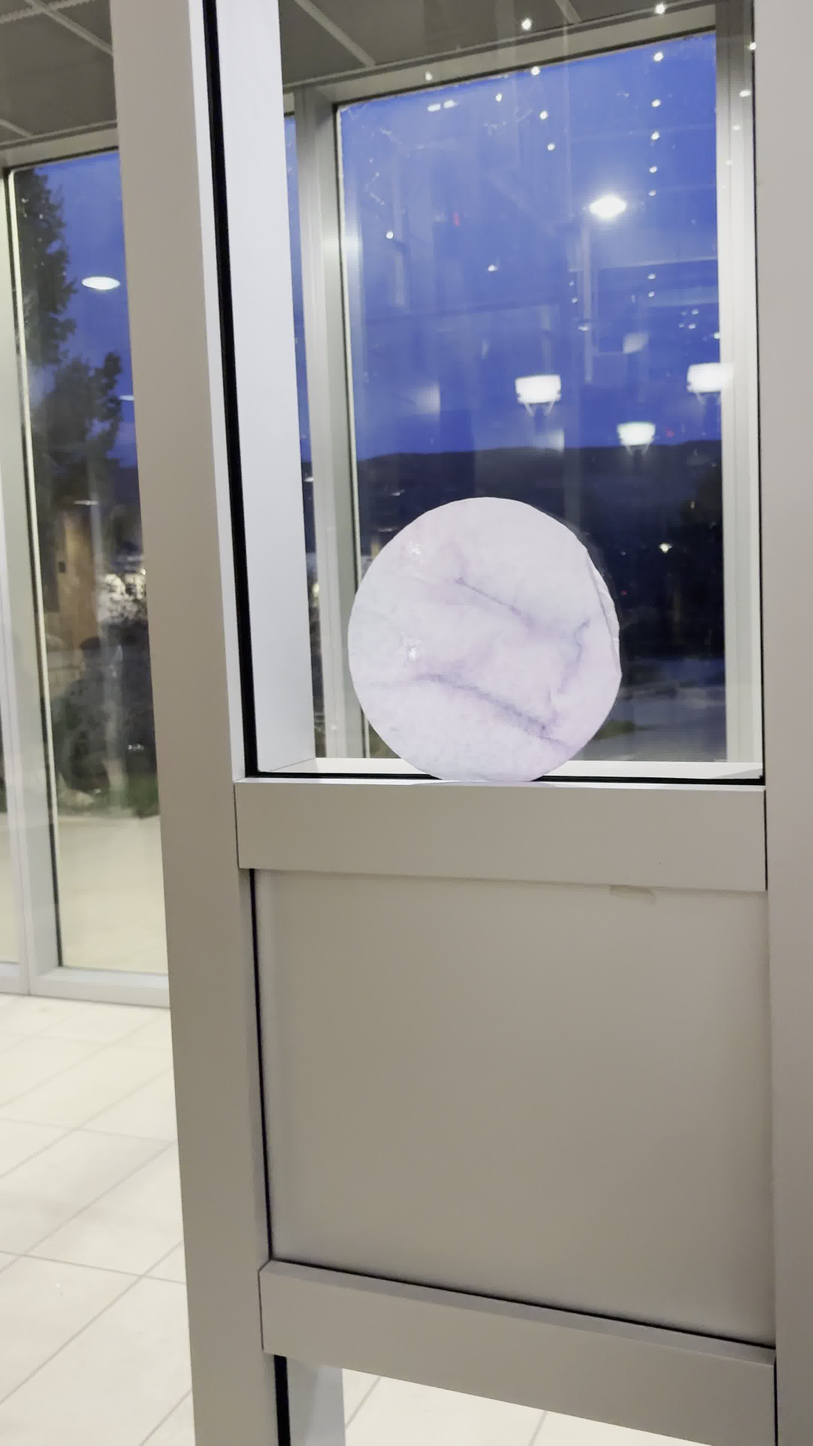Target: (346, 497, 623, 781)
